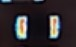COMP: (9, 11, 67, 43)
GAP: (15, 1, 43, 28)
